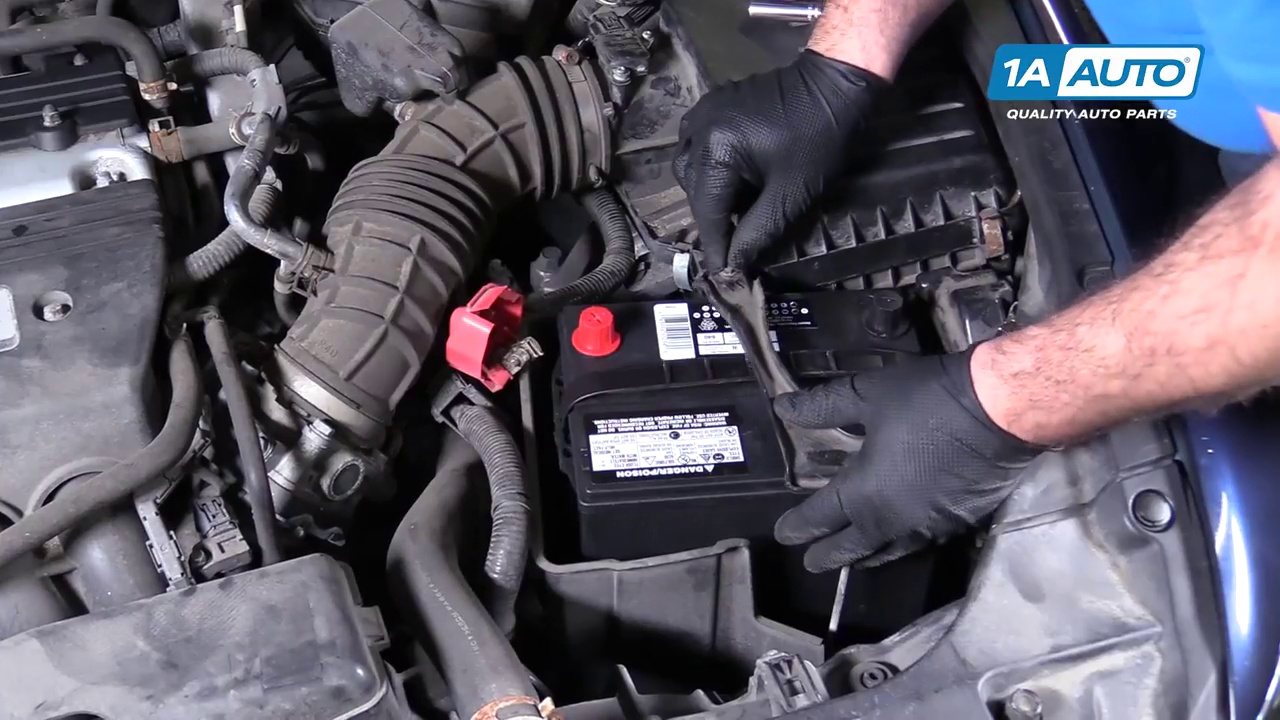battery: (555, 286, 930, 489)
pos_disconnected: (431, 291, 627, 402)
